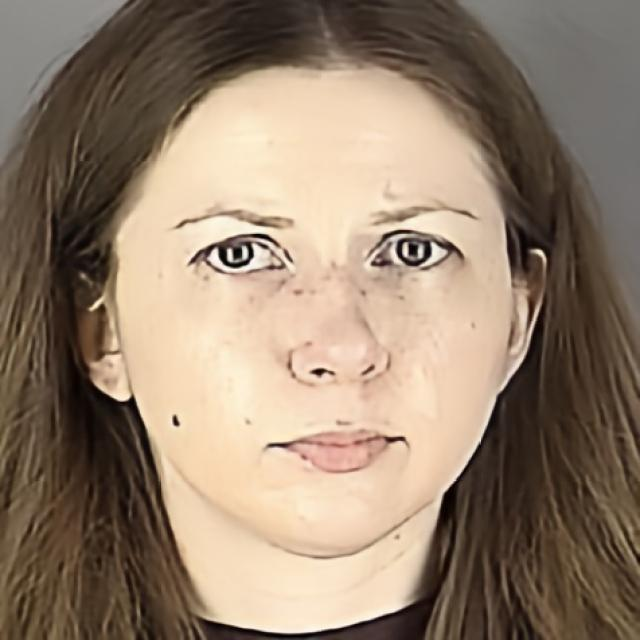neutral: (115, 61, 512, 560)
